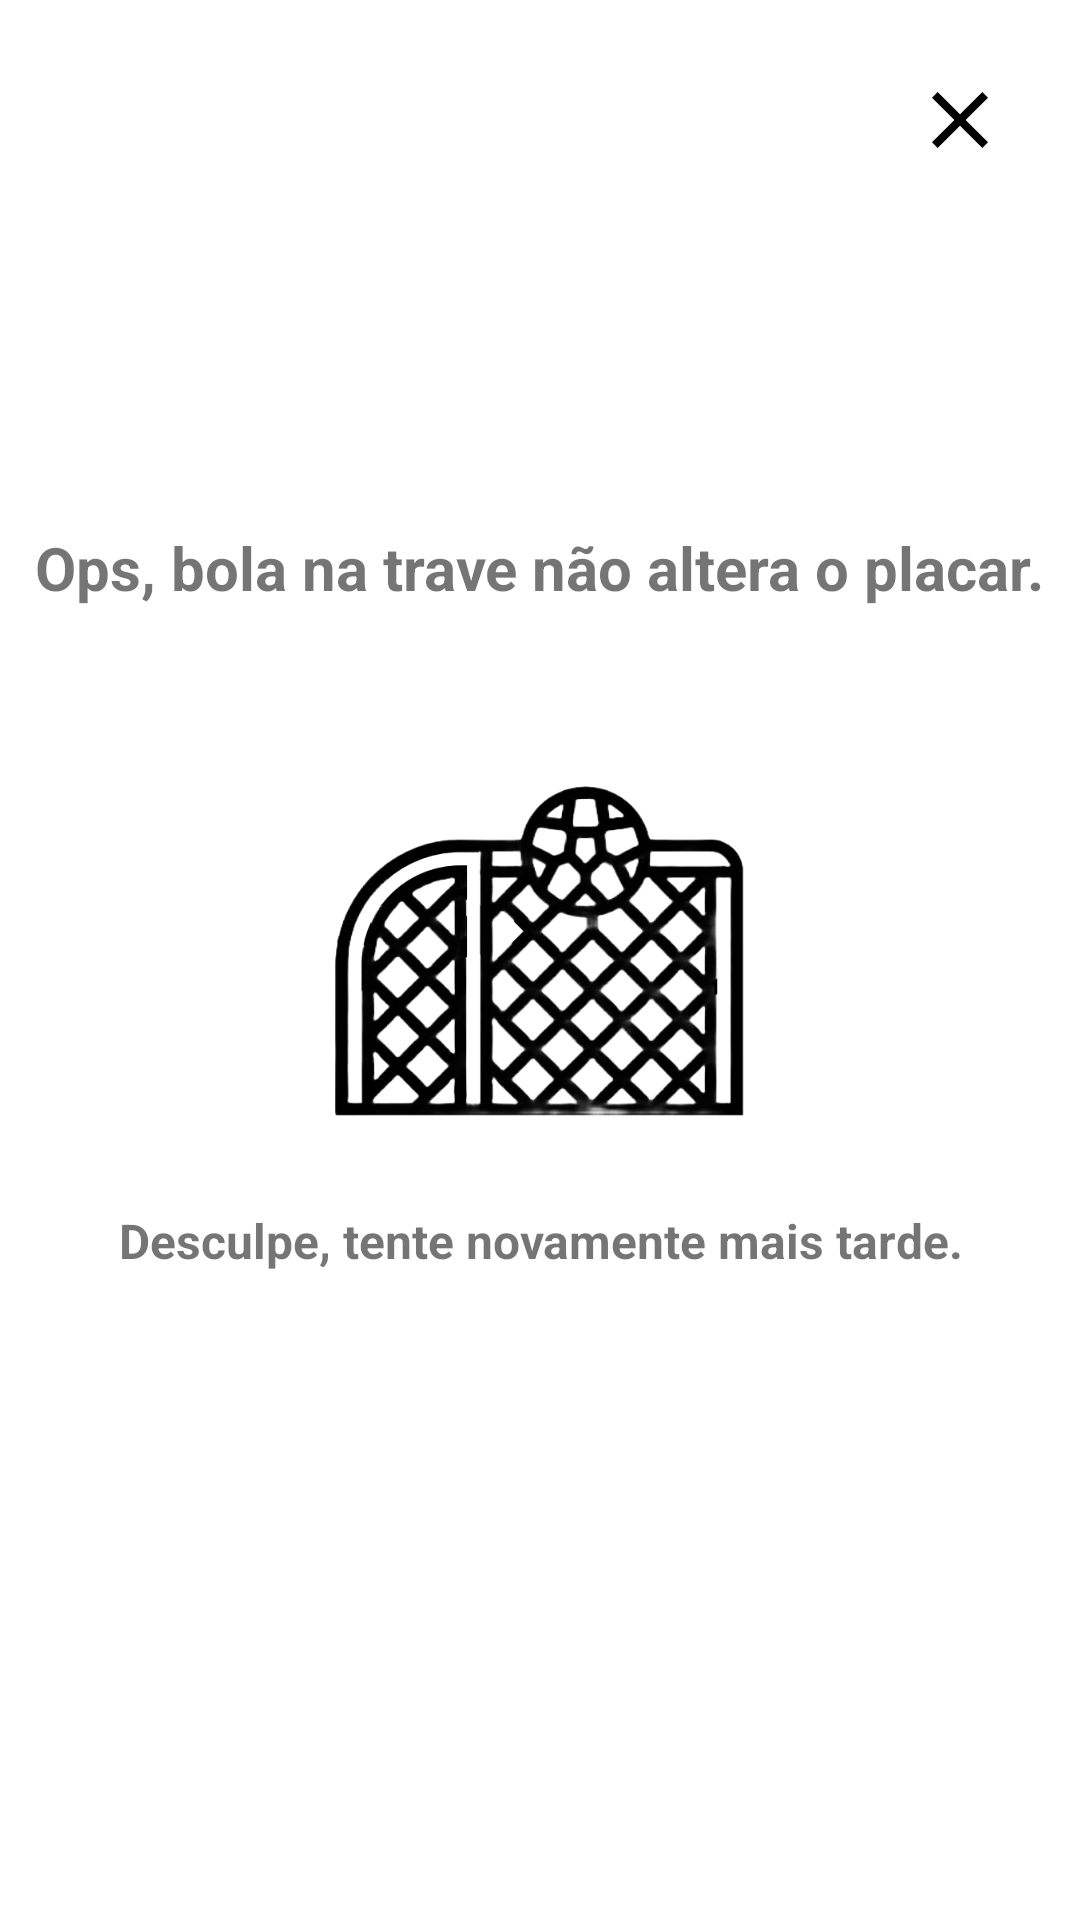

Icons on this 1080px×1920px Android screen, each with the point to tap as (x=x, y=y):
close: (x=960, y=120)
